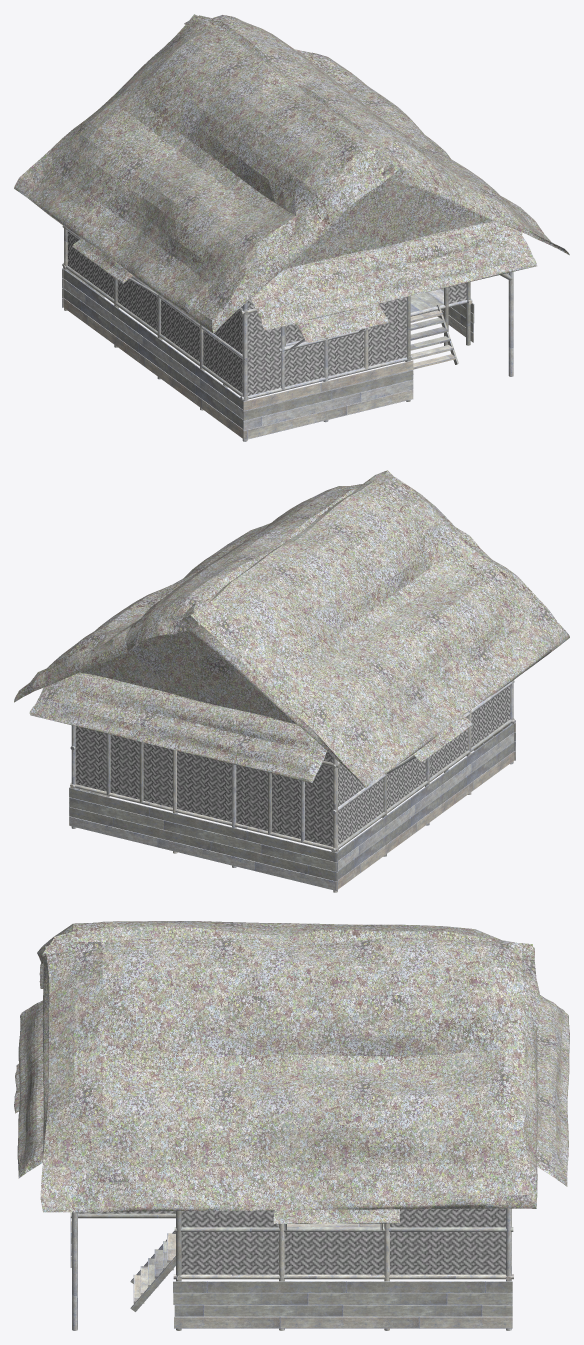
The picture shows the model from 3 angles, top to bottom: view 1: azimuth 30°, elevation 25°; view 2: azimuth 150°, elevation 25°; view 3: azimuth 270°, elevation 25°; orthographic projection. The views are drawn at different scales.
Visible parts, largest first — view 1: 6; view 2: 6; view 3: 6.
Boxes of the visible parts, left/top/right/bottom form: 6: left=14, top=14, right=569, bottom=441; 6: left=14, top=470, right=569, bottom=892; 6: left=14, top=921, right=569, bottom=1330.
Size of the model in its own units: 29.78 by 20.48 by 31.97.
Materials: 5 (5 with a texture image).
